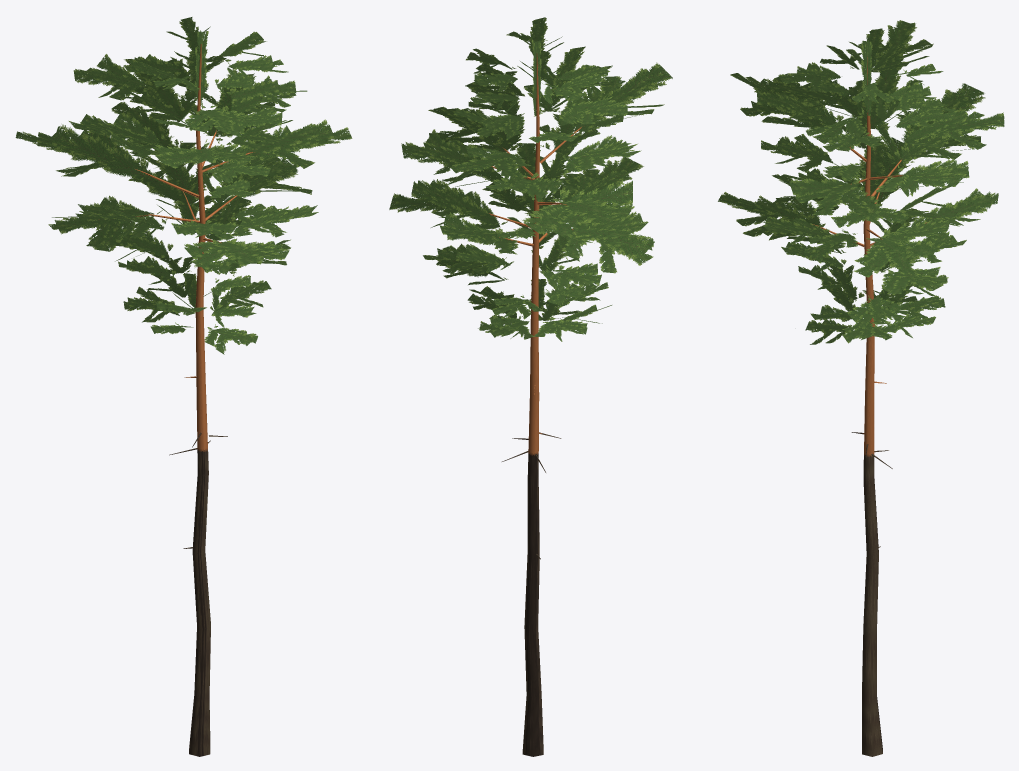
The model's file is near.glb.
3 views of the same model, side by side, from view 1: azimuth 30°, elevation 25°; view 2: azimuth 150°, elevation 25°; view 3: azimuth 270°, elevation 25° (orthographic).
Parts seen in each view (by area): view 1: pine_05; view 2: pine_05; view 3: pine_05.
Part boxes in pixels (x1,y1,x2,y2): pine_05: [15, 17, 352, 756]; pine_05: [389, 17, 672, 756]; pine_05: [718, 20, 1004, 756].
Size of the model in its own units: 7.41 by 18.17 by 6.74.
2 materials, 2 textured.
